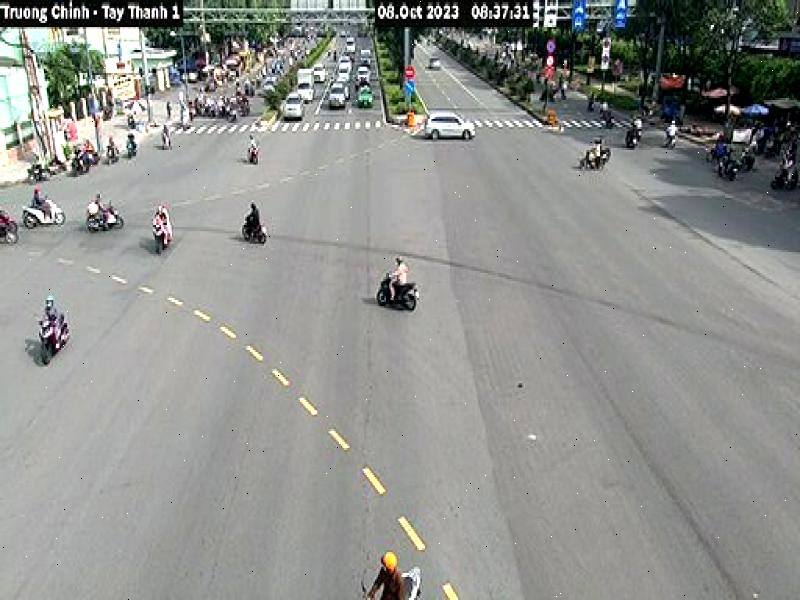motorcycle: (423, 106, 482, 147), (374, 272, 422, 314), (39, 319, 78, 361), (81, 208, 133, 234), (237, 221, 271, 249), (152, 228, 180, 248)
